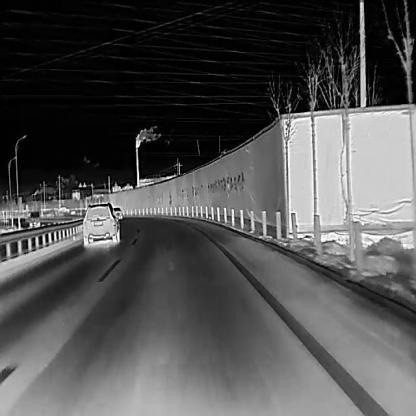car: (82, 202, 118, 246), (11, 210, 41, 226), (113, 206, 122, 220)
